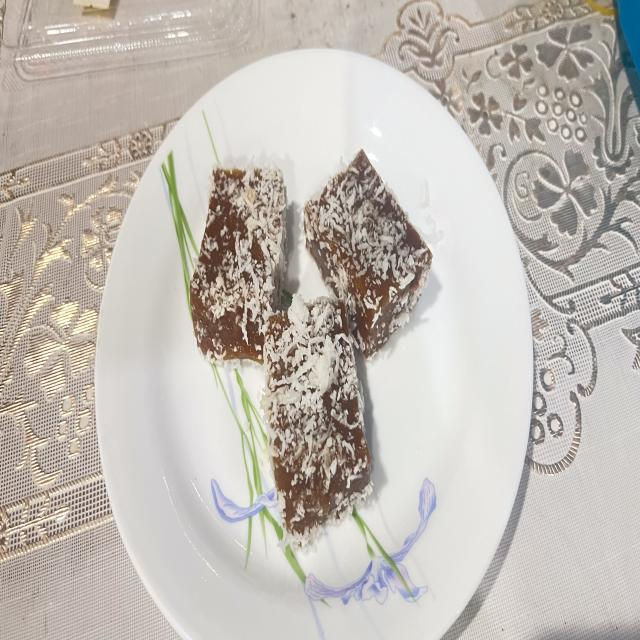kaswi: (261, 293, 371, 547), (304, 151, 432, 358), (190, 167, 286, 362)
